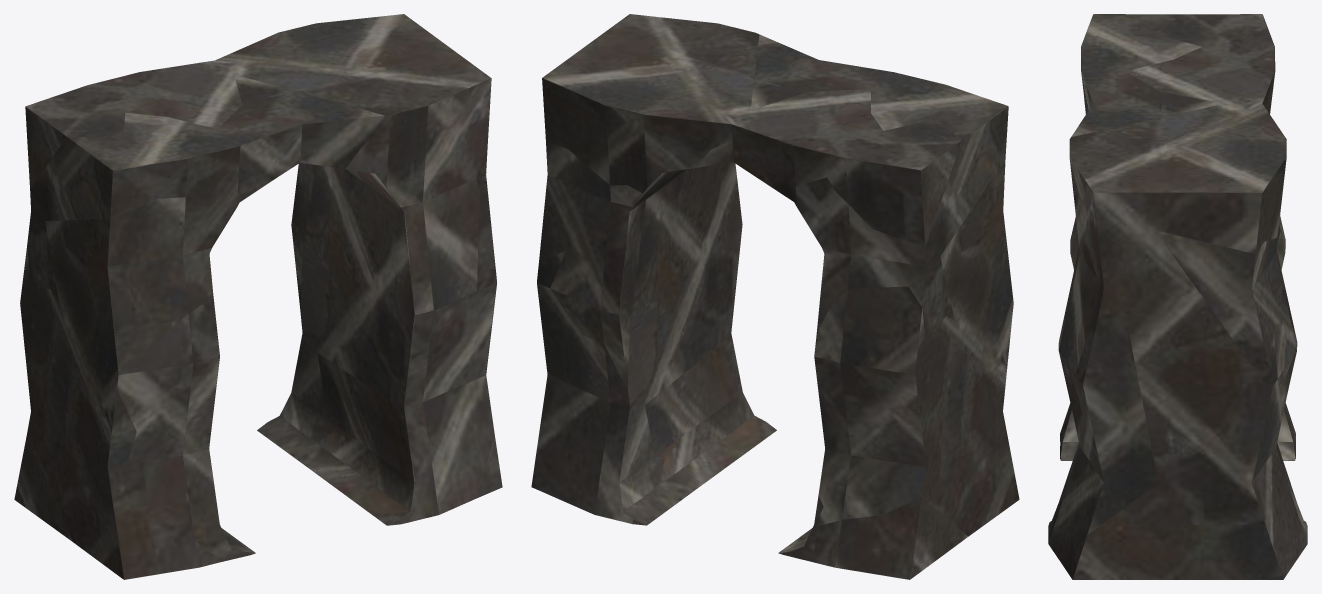
File: gate_rock.glb
3 renders of one model, left to right at view 1: azimuth 30°, elevation 25°; view 2: azimuth 150°, elevation 25°; view 3: azimuth 270°, elevation 25°, orthographic. The views are drawn at different scales.
Parts seen in each view (by area): view 1: gate_rock; view 2: gate_rock; view 3: gate_rock.
Part boxes in pixels (box(x1,y1,x2,y2)): gate_rock: box(14, 14, 502, 579); gate_rock: box(531, 14, 1019, 579); gate_rock: box(1048, 14, 1307, 579).
Bounding box in the file's own units: 2 × 2.03 × 1.23.
1 material, 1 textured.
